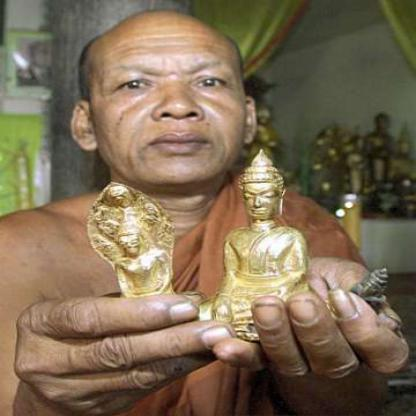face: (88, 11, 250, 192)
